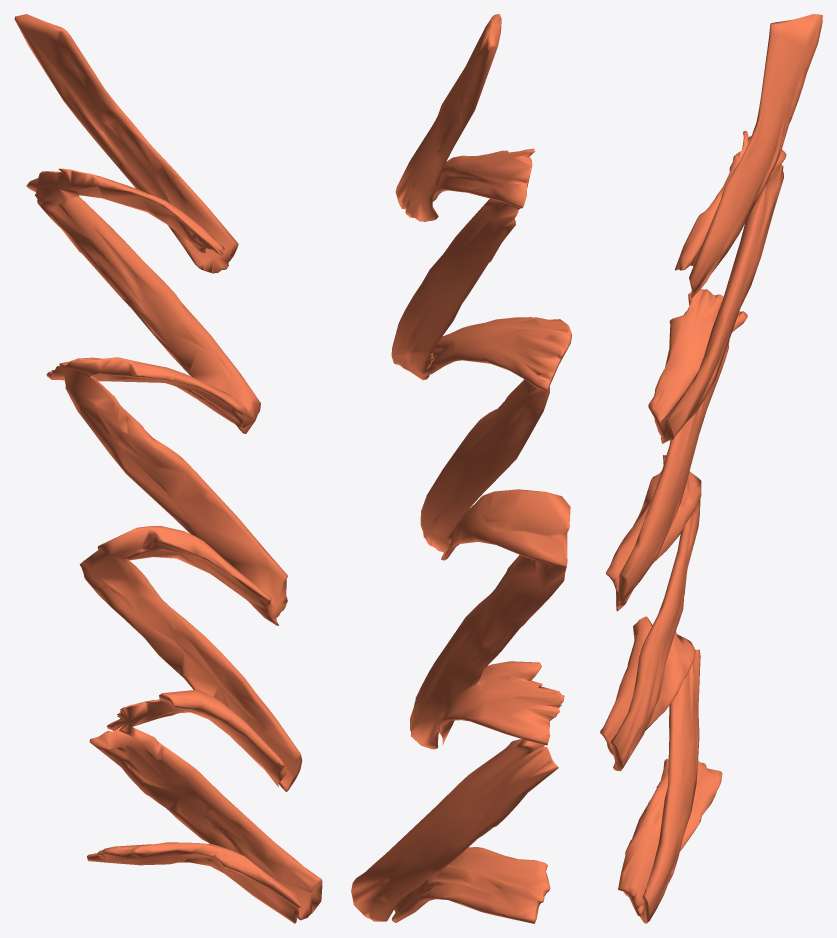
Rendered from Multifidus_lumborum.l_Generated_Mesh_From_X3D.343.glb.
3 renders of one model, left to right at view 1: azimuth 30°, elevation 25°; view 2: azimuth 150°, elevation 25°; view 3: azimuth 270°, elevation 25°, orthographic. The views are drawn at different scales.
Visible parts, largest first — view 1: Multifidus_lumborum.l_Generated_Mesh_From_X3D.343; view 2: Multifidus_lumborum.l_Generated_Mesh_From_X3D.343; view 3: Multifidus_lumborum.l_Generated_Mesh_From_X3D.343.
Part boxes in pixels (<box>): Multifidus_lumborum.l_Generated_Mesh_From_X3D.343: <box>14,14,322,923</box>; Multifidus_lumborum.l_Generated_Mesh_From_X3D.343: <box>351,14,571,923</box>; Multifidus_lumborum.l_Generated_Mesh_From_X3D.343: <box>600,14,822,923</box>.
Size of the model in its own units: 0.0427 by 0.1614 by 0.0396.
